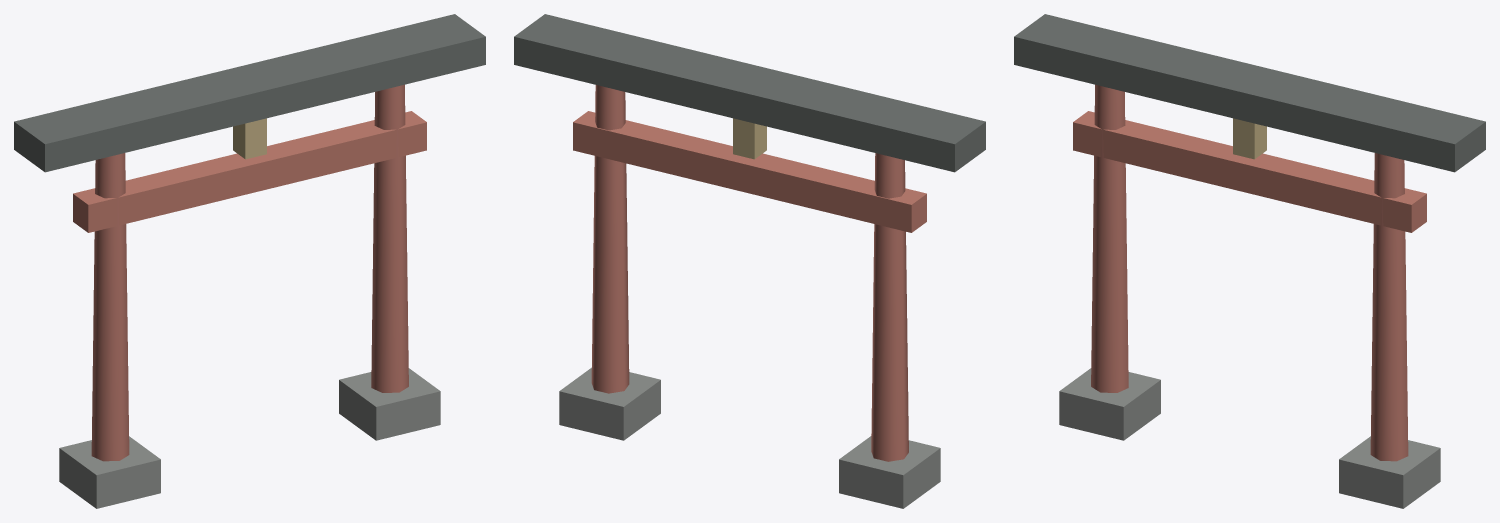
3 renders of one model, left to right at view 1: azimuth 30°, elevation 25°; view 2: azimuth 150°, elevation 25°; view 3: azimuth 330°, elevation 25°, orthographic.
Visible parts, largest first — view 1: Visual; view 2: Visual; view 3: Visual.
Boxes of the visible parts, x1,y1,x2,y2 form: Visual: [14, 14, 485, 508]; Visual: [514, 14, 985, 508]; Visual: [1014, 14, 1485, 508].
Size of the model in its own units: 8.2 by 6.65 by 1.2.
